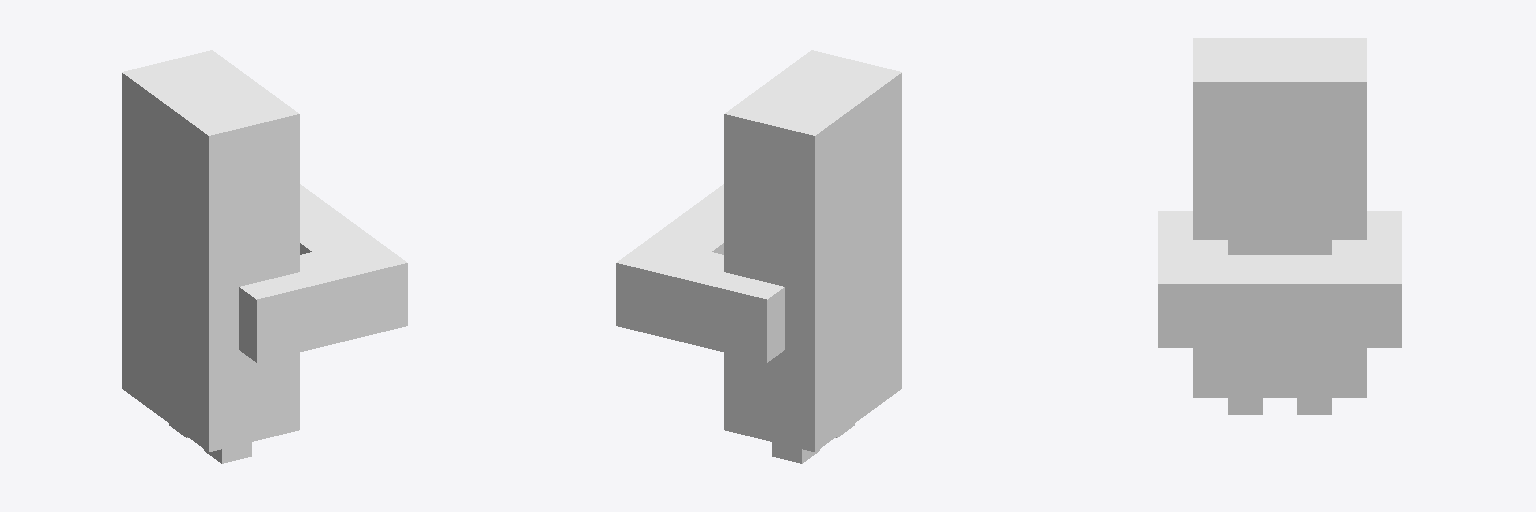
The model's file is chierico.obj.
3 renders of one model, left to right at view 1: azimuth 30°, elevation 25°; view 2: azimuth 150°, elevation 25°; view 3: azimuth 270°, elevation 25°, orthographic.
Size of the model in its own units: 6 by 11 by 7.